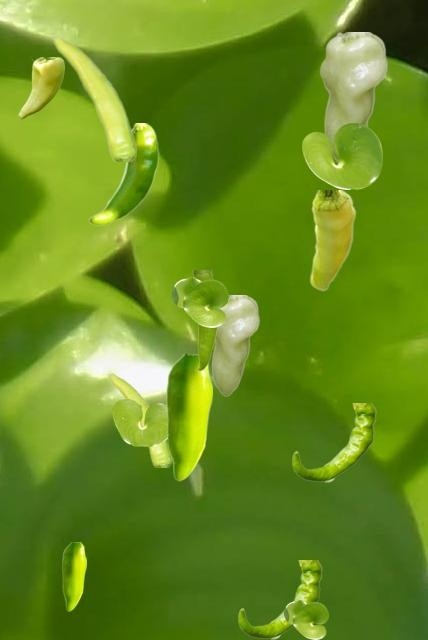green_chili: (53, 34, 135, 160), (319, 32, 386, 162), (88, 123, 158, 225), (238, 560, 321, 638), (292, 403, 375, 481), (109, 372, 170, 466), (166, 354, 211, 480), (211, 295, 258, 395), (309, 190, 355, 290), (18, 57, 63, 118), (192, 270, 217, 370), (62, 542, 85, 610)
